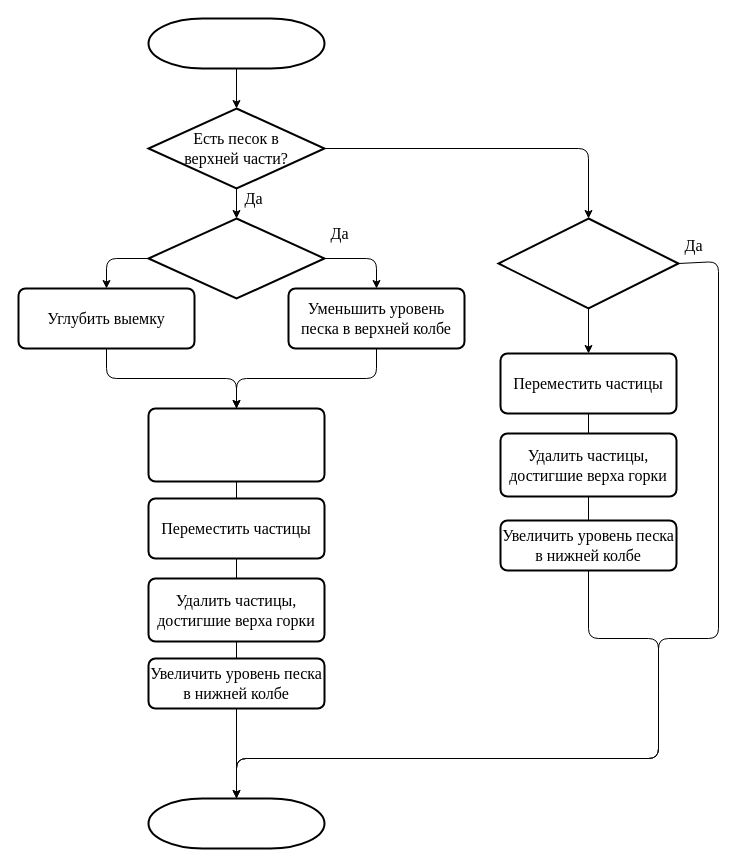
Image size: 744x866. Some labels were removed from this diagram. The box of each missing label's shape, as (x1, y1, x2, y2) in pixels:
Выемка сформировалась?: (147, 217, 325, 299)
Добавить элементы в массив пересыпающихся частиц: (147, 407, 325, 482)
Конец: (147, 797, 325, 849)
Массив пересыпающихся частиц пустой?: (497, 217, 679, 309)
Начало: (147, 17, 325, 69)
